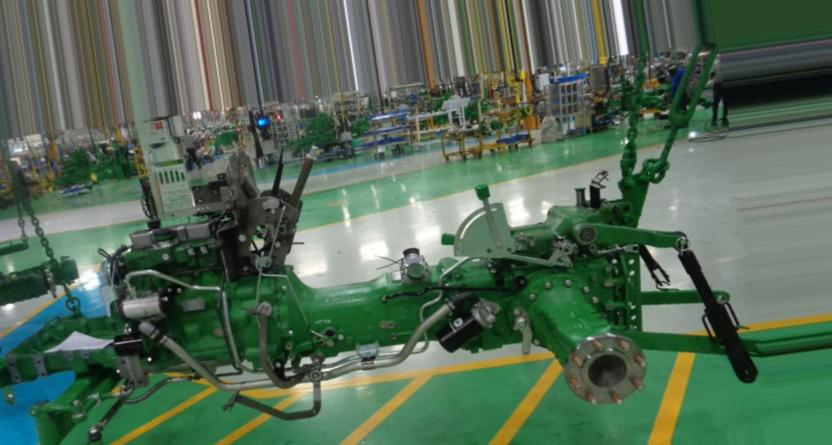engine: (0, 94, 764, 443)
